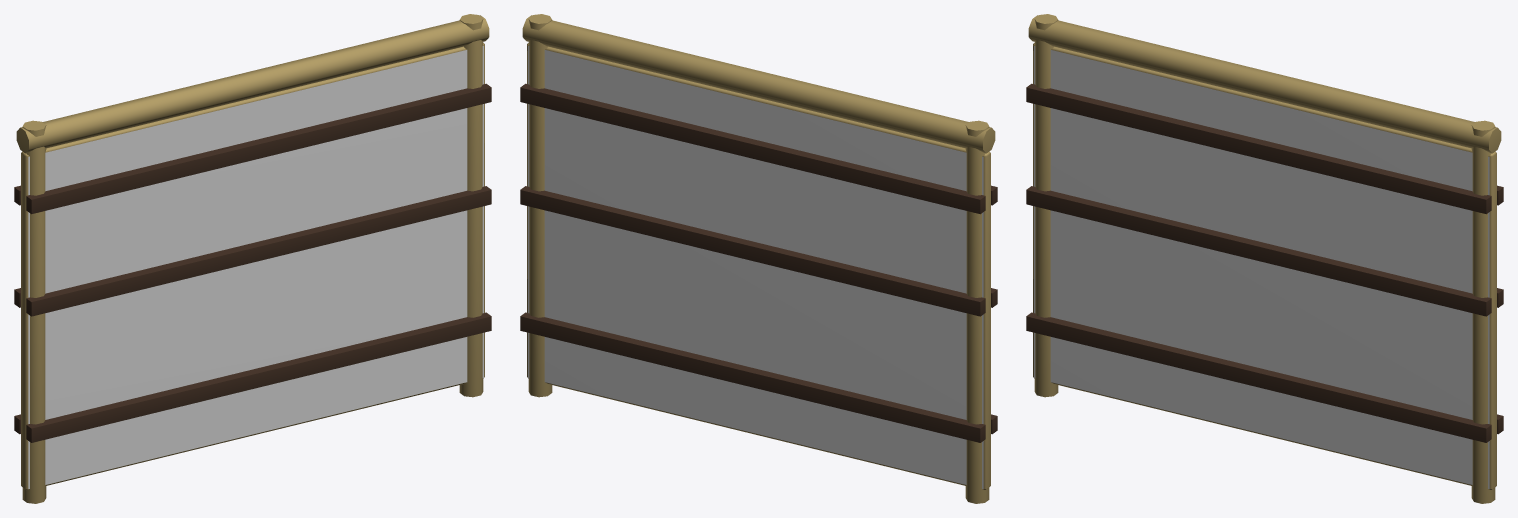
The model's file is FenceBambooKM.fbx.
The picture shows the model from 3 angles, left to right: view 1: azimuth 30°, elevation 25°; view 2: azimuth 150°, elevation 25°; view 3: azimuth 330°, elevation 25°; orthographic projection.
Visible parts, largest first — view 1: FenceBambooKM; view 2: FenceBambooKM; view 3: FenceBambooKM.
Part boxes in pixels (x1,y1,x2,y2): FenceBambooKM: [14, 14, 491, 503]; FenceBambooKM: [520, 14, 997, 503]; FenceBambooKM: [1026, 14, 1503, 503].
Size of the model in its own units: 2 by 1.55 by 0.13.
